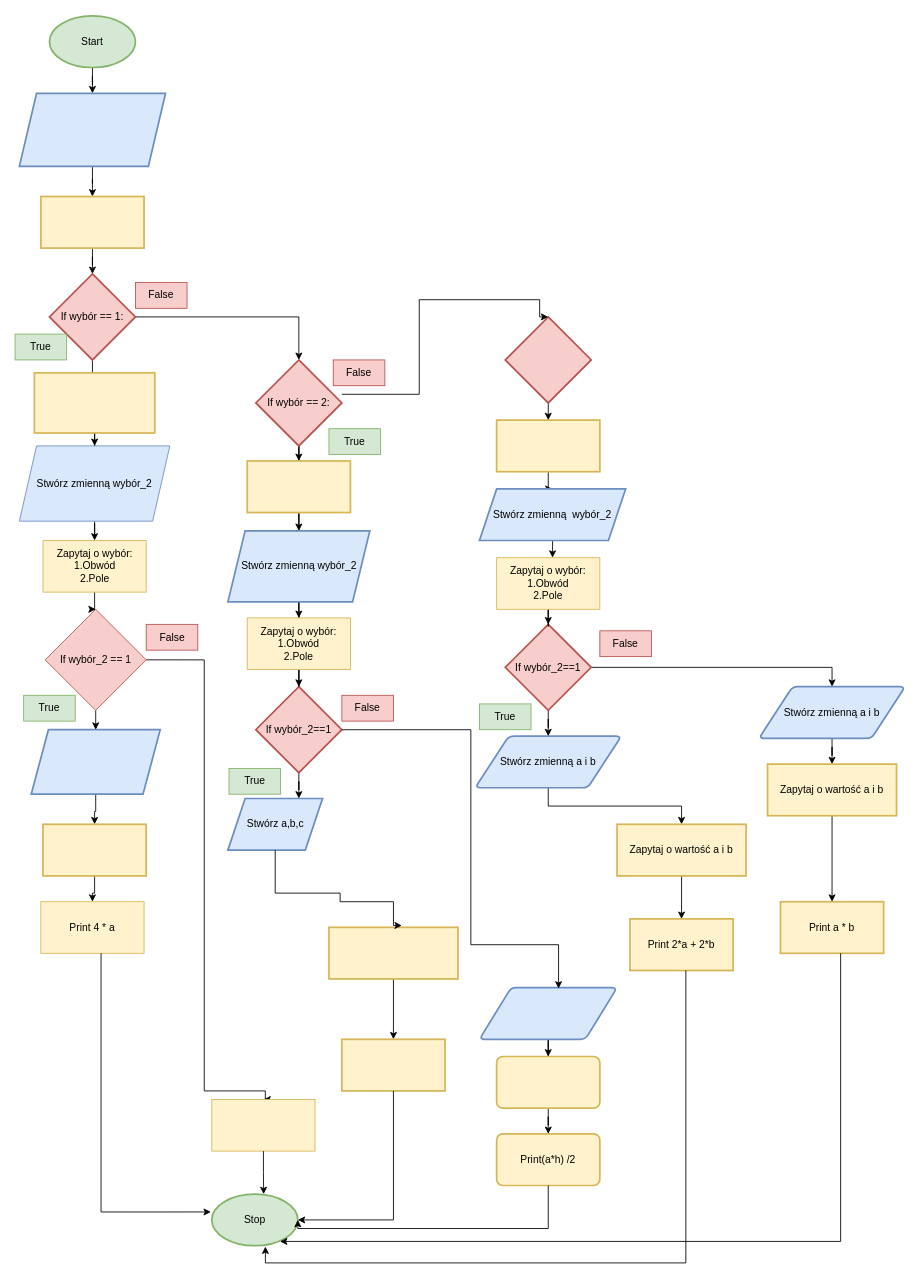
Image size: 921x1285. Some labels were removed from this diagram. Here are the shapes that lost their labels. From the top down, the centre of each, then its label:
pixel 92 129: Stwórz zmienna wybór
pixel 92 222: Jaki wybór: 1 = kwadrat, 2 = trójkąt 3 = prostokąt
pixel 548 359: If wybór == 3:
pixel 94 402: Print "Twój wybór to kwadrat"
pixel 547 445: Print "Twój wybór to prostokąt"
pixel 298 486: Print "Twój wybór to trójkąt"
pixel 95 761: Stwórz zmienną a
pixel 94 849: Zapytaj o wartośc zmiennej a
pixel 393 952: Zapytaj o wartość a, b,c
pixel 547 1013: Stwórz zmienną h
pixel 393 1064: Print a+b+c
pixel 547 1082: Zapytaj o wartość zmiennej h
pixel 263 1125: Print a^2
